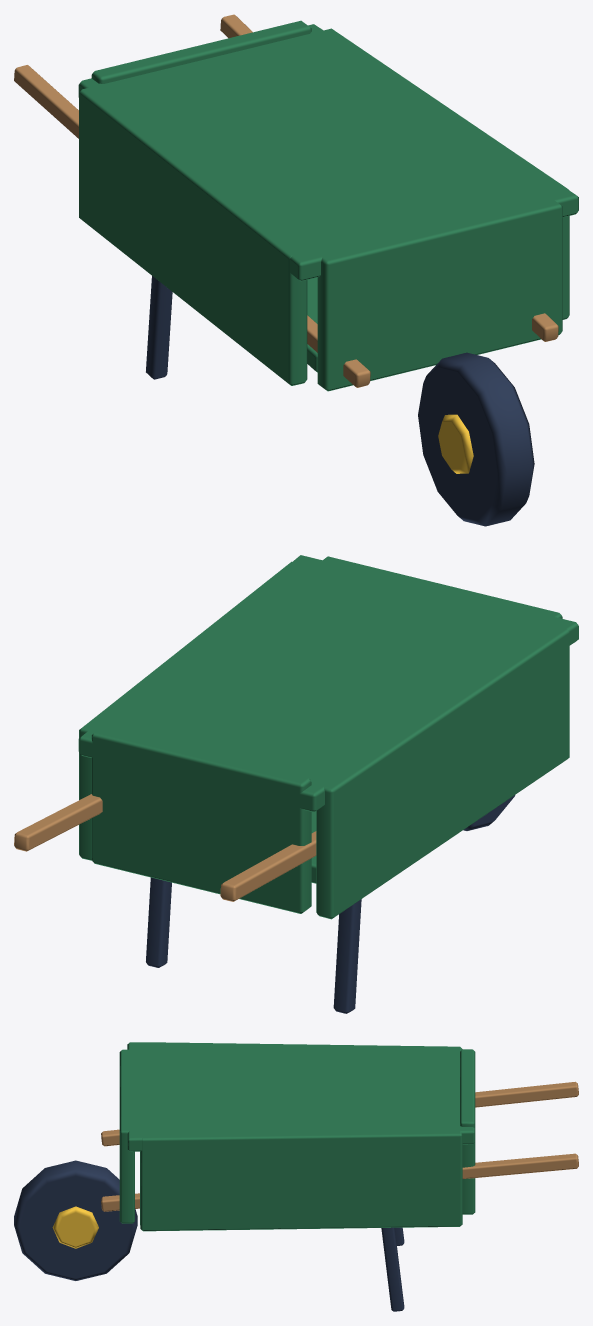
File: wheelbarrow.glb
3 views of the same model, one above another, from view 1: azimuth 30°, elevation 25°; view 2: azimuth 150°, elevation 25°; view 3: azimuth 270°, elevation 25° (orthographic). The views are drawn at different scales.
Visible parts, largest first — view 1: wheelbarrow; view 2: wheelbarrow; view 3: wheelbarrow.
Boxes of the visible parts, bbox=[...] form: wheelbarrow: bbox=[14, 14, 578, 526]; wheelbarrow: bbox=[14, 555, 578, 1013]; wheelbarrow: bbox=[14, 1042, 578, 1311].
Bounding box in the file's own units: 0.8993 × 0.8218 × 2.19.
